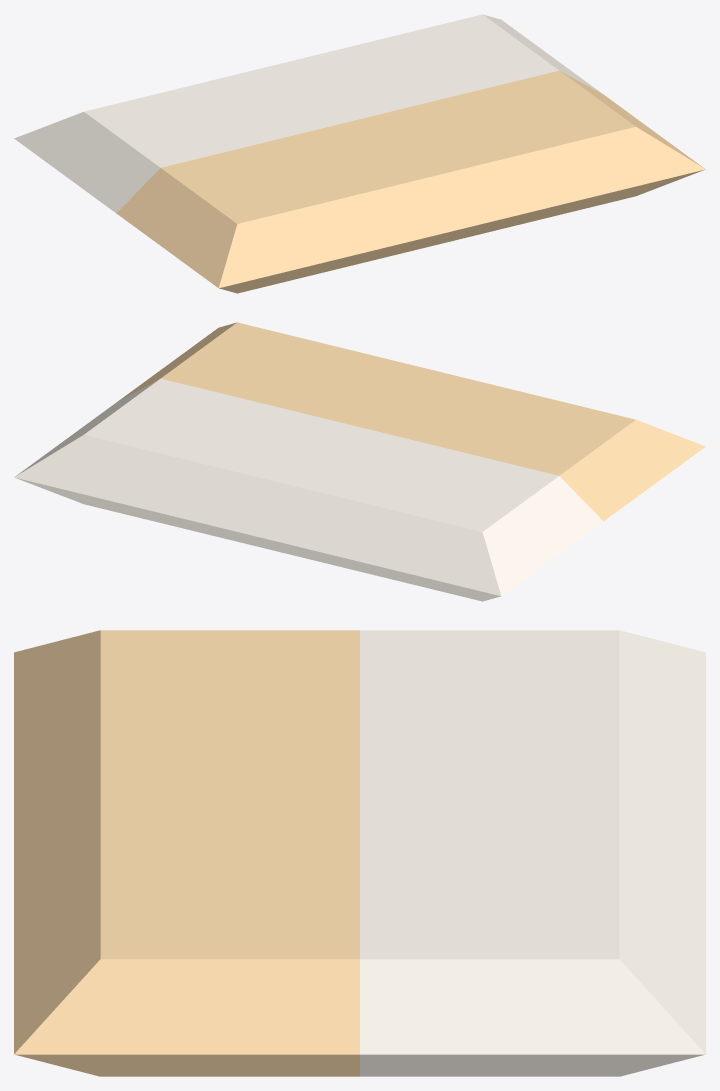
Rendered from HeatPack.fbx.
3 renders of one model, top to bottom at view 1: azimuth 30°, elevation 25°; view 2: azimuth 150°, elevation 25°; view 3: azimuth 270°, elevation 25°, orthographic. The views are drawn at different scales.
Visible parts, largest first — view 1: HeatPack; view 2: HeatPack; view 3: HeatPack.
Part boxes in pixels (x1=…): HeatPack: x1=14, y1=14, x2=705, y2=293; HeatPack: x1=14, y1=322, x2=705, y2=601; HeatPack: x1=14, y1=630, x2=705, y2=1076.
Bounding box in the file's own units: 0.11 × 0.015 × 0.08.
